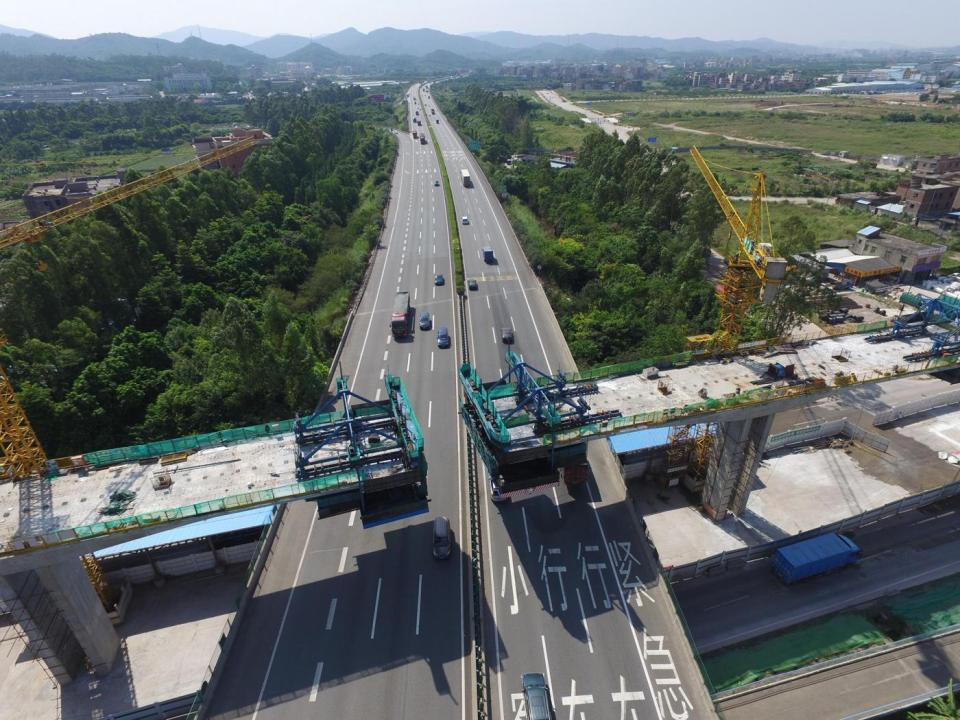car: (520, 672, 552, 720), (434, 516, 452, 560), (488, 471, 507, 503), (436, 328, 449, 348), (419, 312, 431, 330), (501, 328, 514, 344), (434, 273, 444, 285), (468, 279, 477, 289), (462, 216, 469, 224), (434, 179, 439, 185), (394, 130, 398, 134), (413, 101, 417, 103), (430, 114, 432, 116), (416, 107, 419, 108), (424, 105, 426, 106), (428, 106, 430, 106)
truck: (771, 530, 864, 588)
van: (390, 292, 410, 338), (460, 168, 472, 187), (481, 246, 494, 262), (420, 132, 426, 144), (413, 130, 417, 139), (412, 118, 418, 123), (436, 119, 440, 124), (431, 108, 434, 114), (415, 110, 418, 115), (418, 122, 420, 126), (414, 97, 416, 100)
